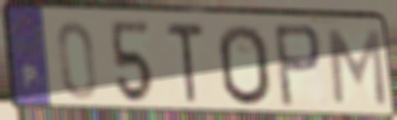0: (55, 19, 99, 103)
5: (107, 18, 157, 106)
M: (325, 27, 390, 110)
O: (216, 22, 274, 108)
P: (271, 21, 325, 111)
T: (163, 19, 208, 107)
